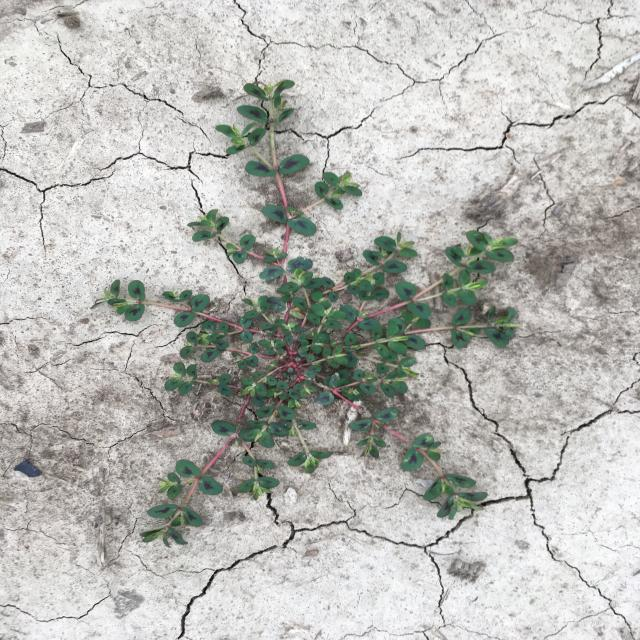SpottedSpurge: (91, 80, 519, 548)
